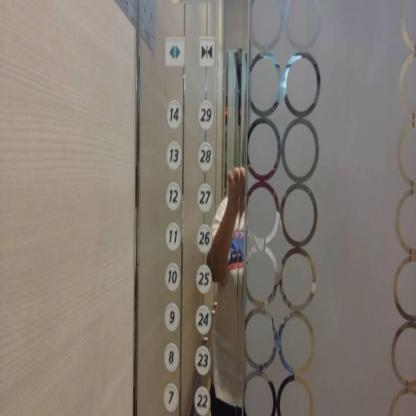10: (162, 259, 180, 293)
11: (164, 219, 182, 253)
12: (164, 177, 182, 212)
13: (165, 137, 183, 172)
14: (165, 96, 183, 131)
22: (192, 381, 210, 415)
23: (193, 343, 211, 377)
24: (193, 302, 211, 337)
25: (194, 261, 212, 296)
26: (194, 220, 212, 255)
27: (195, 180, 213, 214)
28: (196, 140, 214, 174)
29: (196, 98, 214, 132)
7: (161, 379, 179, 414)
8: (162, 338, 180, 373)
9: (162, 299, 180, 333)
close: (197, 33, 216, 69)
open: (164, 34, 186, 69)
